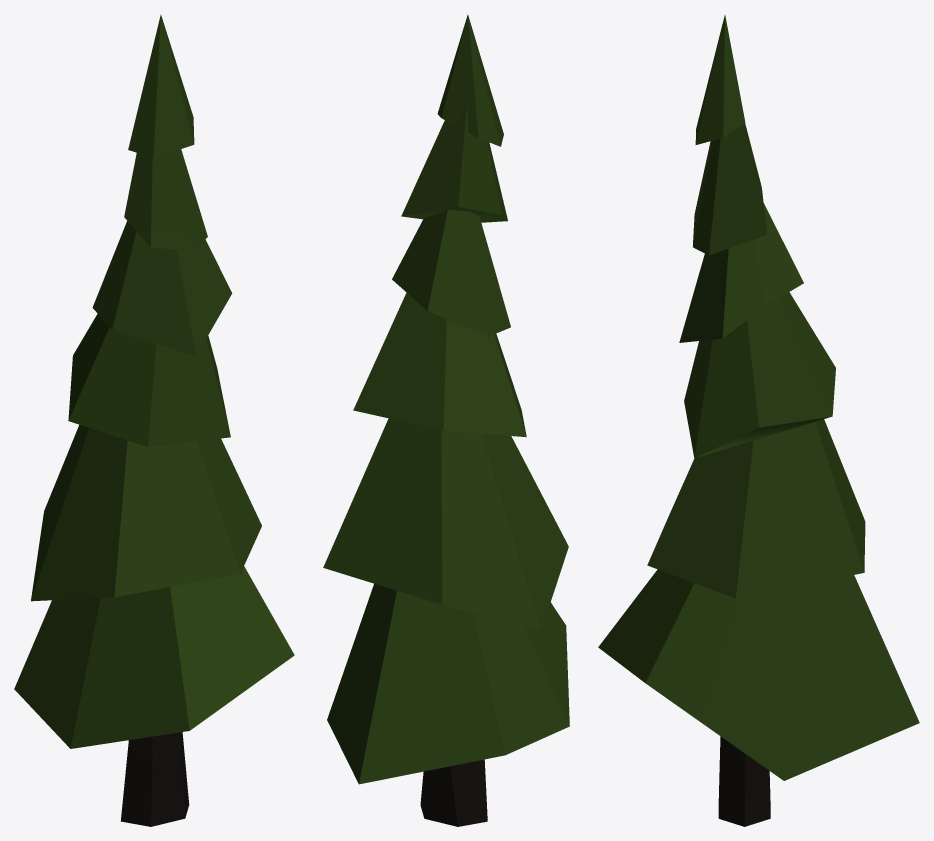
The model's file is Pine_01.FBX.
3 views of the same model, side by side, from view 1: azimuth 30°, elevation 25°; view 2: azimuth 150°, elevation 25°; view 3: azimuth 270°, elevation 25° (orthographic).
Parts seen in each view (by area): view 1: Pine_01; view 2: Pine_01; view 3: Pine_01.
Boxes of the visible parts, bbox=[...] form: Pine_01: bbox=[14, 14, 294, 826]; Pine_01: bbox=[323, 14, 569, 826]; Pine_01: bbox=[598, 15, 919, 826].
Bounding box in the file's own units: 0.119 × 0.4256 × 0.1562.
